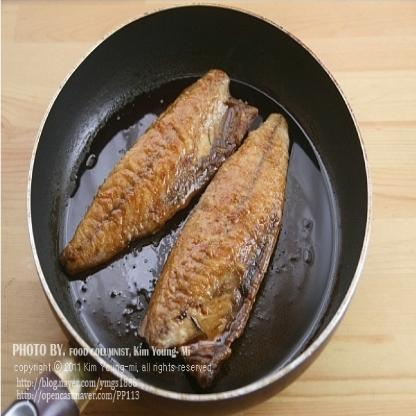Peixe: (61, 100, 296, 375)
